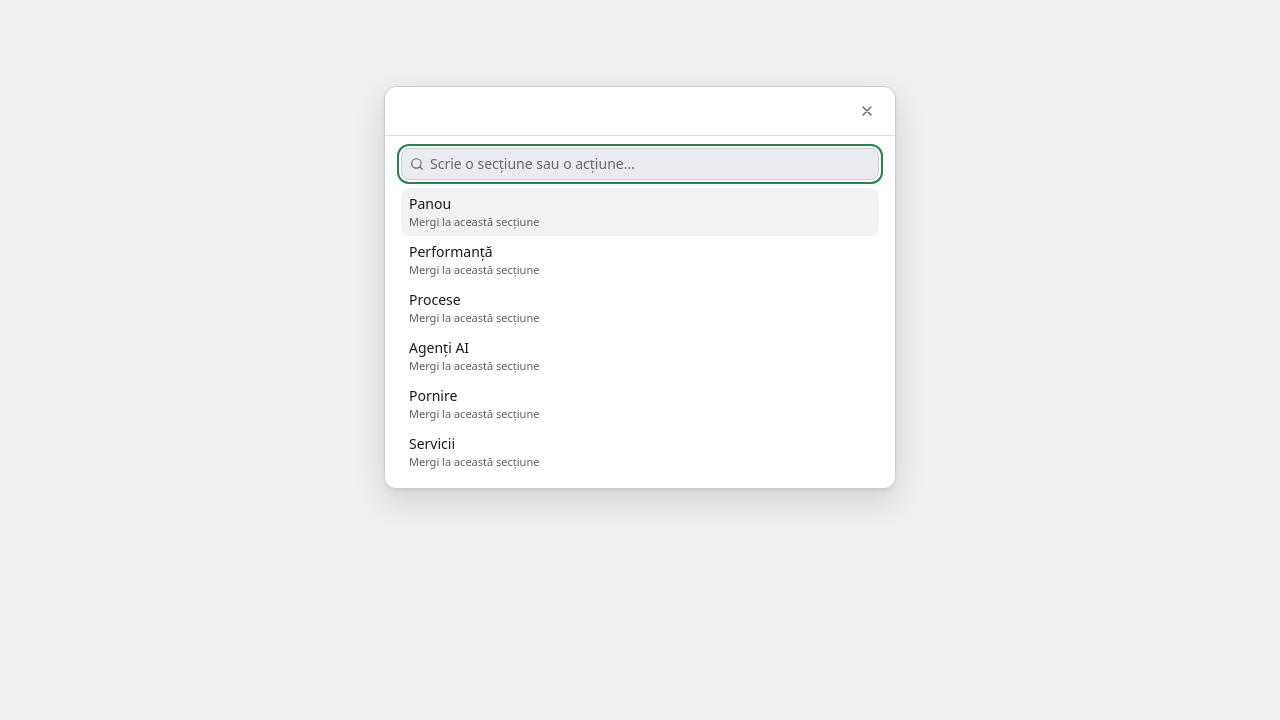
Test: CommandPalette › matches a query typed without diacritics
The width and height of the screenshot is (1280, 720).
Type "retea" into the dropdown at (650, 164), box x1=430 y1=154 x2=870 y2=174
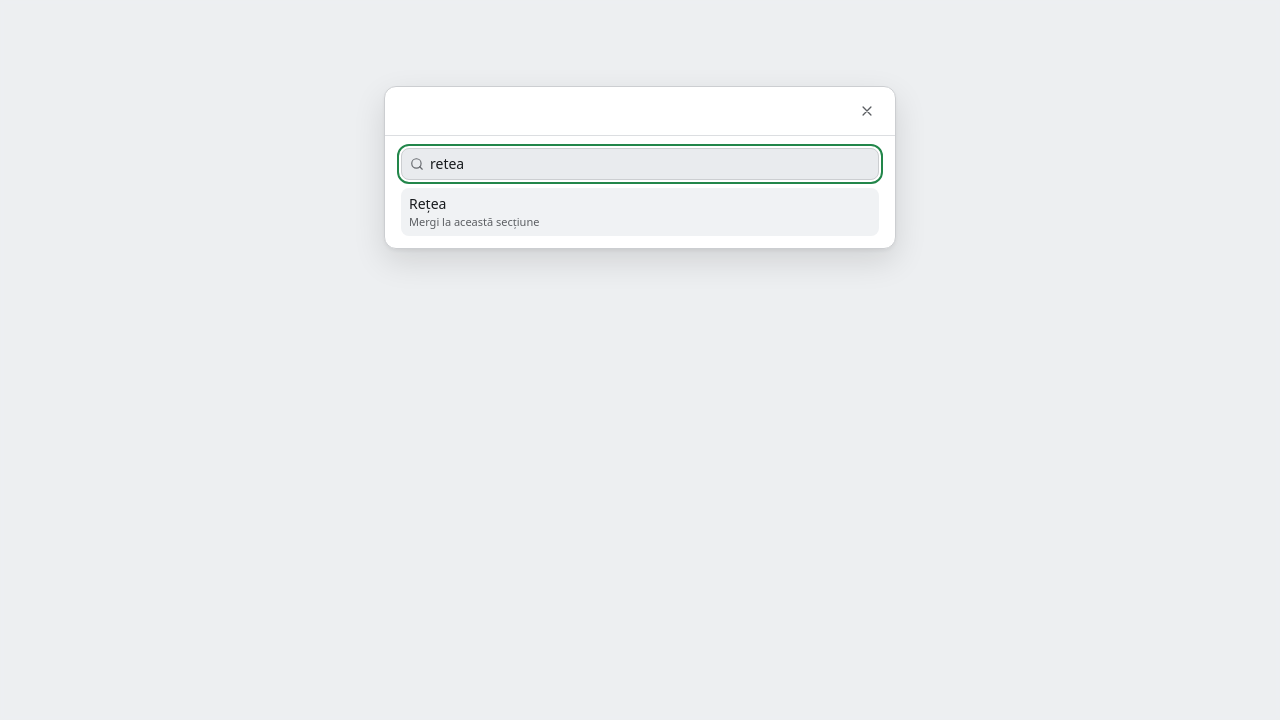
Expected: the number of options is 1, x1=401 y1=188 x2=879 y2=236
